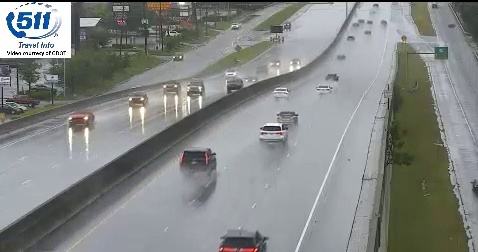car: (220, 231, 268, 252), (179, 149, 215, 171), (259, 122, 287, 142), (277, 111, 297, 125), (273, 87, 290, 100), (316, 84, 333, 94)
